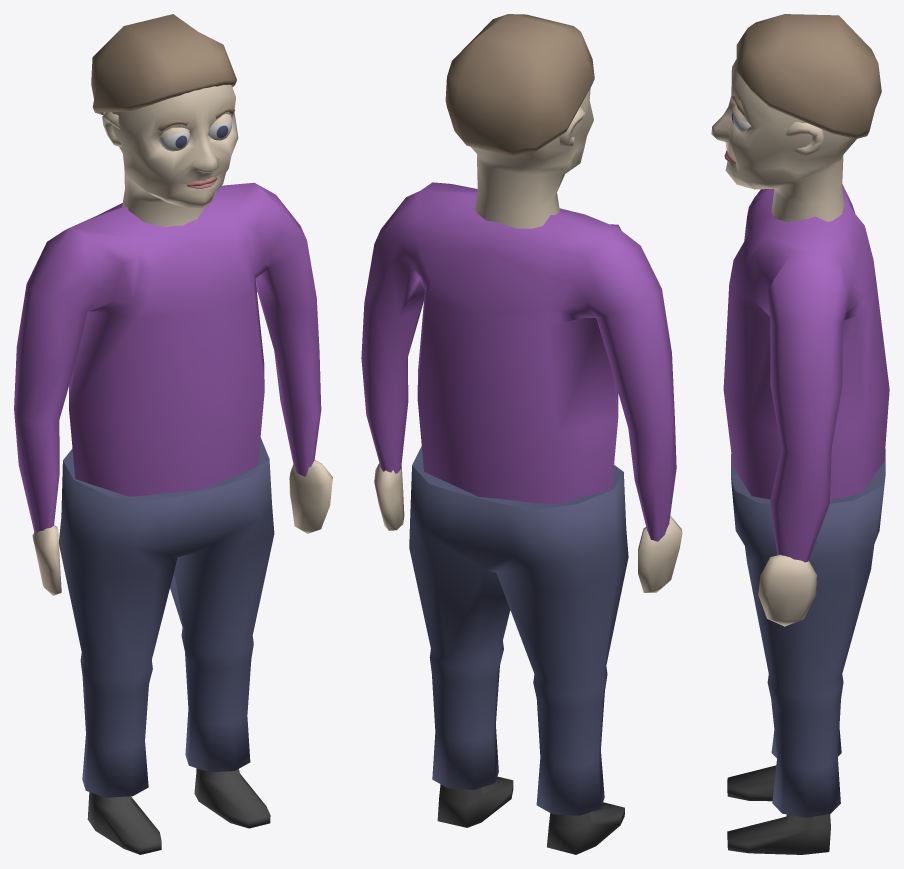
File: male.dae
3 views of the same model, side by side, from view 1: azimuth 30°, elevation 25°; view 2: azimuth 150°, elevation 25°; view 3: azimuth 270°, elevation 25° (orthographic). The views are drawn at different scales.
Visible parts, largest first — view 1: Mesh, Mesh_014, Mesh_007, Mesh_009, Mesh_013, Mesh_010, Mesh_004, Mesh_002; view 2: Mesh, Mesh_014, Mesh_009, Mesh_007, Mesh_013, Mesh_010, Mesh_002, Mesh_004; view 3: Mesh, Mesh_014, Mesh_009, Mesh_007, Mesh_010, Mesh_004, Mesh_013, Mesh_006.
Boxes of the visible parts, bbox=[...] form: Mesh: bbox=[14, 182, 321, 533]; Mesh_014: bbox=[59, 437, 274, 797]; Mesh_007: bbox=[103, 84, 238, 226]; Mesh_009: bbox=[91, 14, 236, 115]; Mesh_013: bbox=[87, 792, 161, 854]; Mesh_010: bbox=[194, 768, 270, 828]; Mesh_004: bbox=[289, 460, 332, 533]; Mesh_002: bbox=[32, 525, 61, 595]; Mesh: bbox=[361, 182, 676, 541]; Mesh_014: bbox=[409, 446, 628, 815]; Mesh_009: bbox=[445, 14, 594, 156]; Mesh_007: bbox=[471, 88, 593, 228]; Mesh_013: bbox=[547, 802, 624, 854]; Mesh_010: bbox=[437, 776, 513, 827]; Mesh_002: bbox=[638, 515, 682, 592]; Mesh_004: bbox=[374, 463, 404, 530]; Mesh: bbox=[723, 184, 889, 562]; Mesh_014: bbox=[731, 449, 885, 817]; Mesh_009: bbox=[736, 14, 881, 138]; Mesh_007: bbox=[711, 59, 856, 221]; Mesh_010: bbox=[727, 814, 830, 854]; Mesh_004: bbox=[758, 554, 816, 626]; Mesh_013: bbox=[727, 765, 776, 801]; Mesh_006: bbox=[786, 122, 824, 155].
Size of the model in its own units: 8.87 by 4.51 by 22.12.
